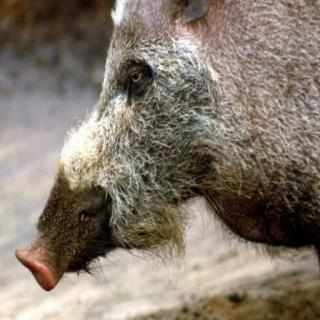Pig: (13, 0, 320, 311)
